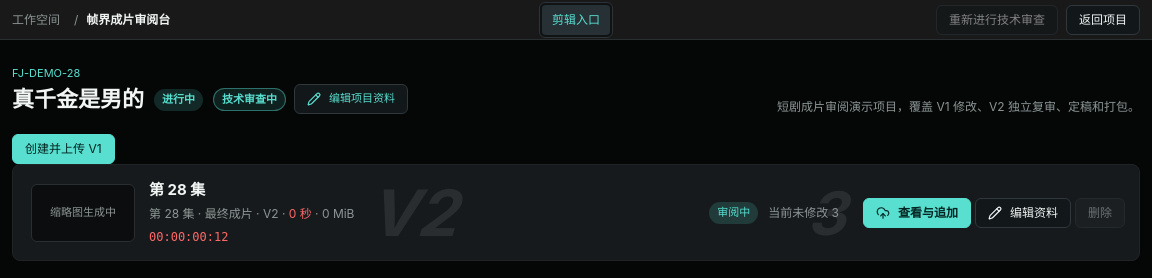
Scenario: ProjectDetailPage technical QC progress › places the project-scoped running marker immediately after the existing in-progress badge
Step 1. Hover over the message "技术审查中" → (250, 100), box [213,88,286,111]
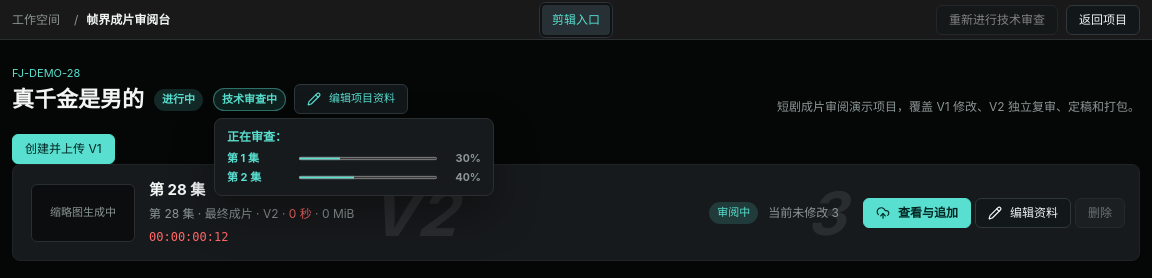
Check: the tooltip does not show "项目总体进度", box [214,118,494,196]
Check: the tooltip shows "第 1 集", box [227,151,259,165]
Check: the tooltip shows "第 2 集", box [227,170,261,184]
